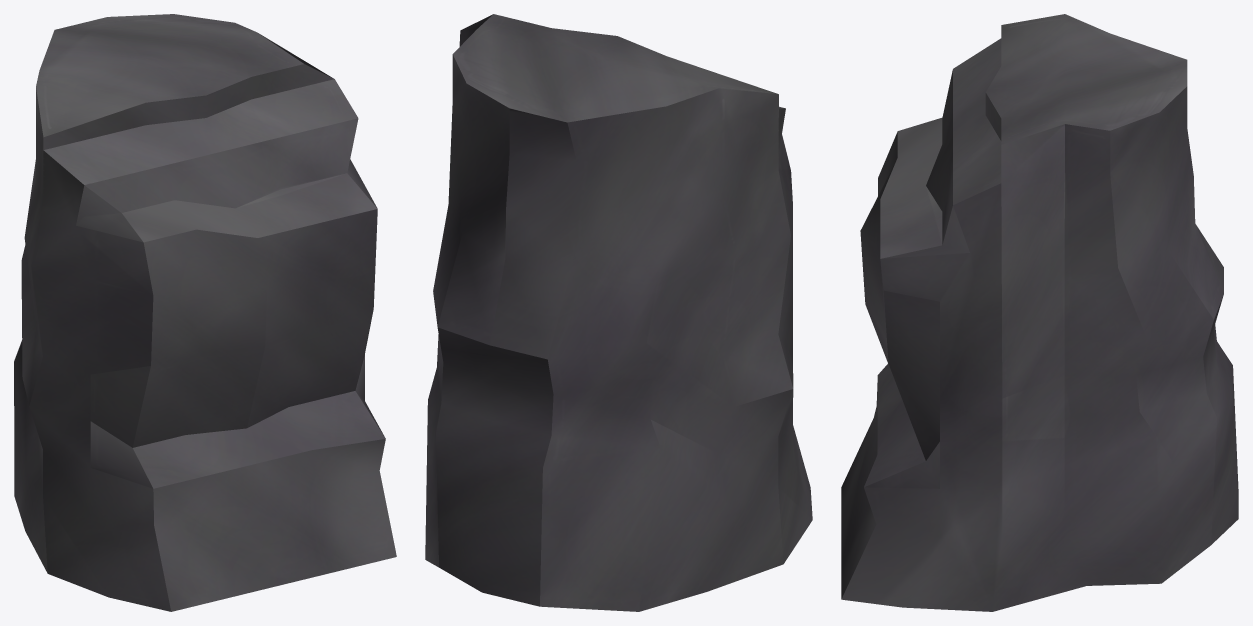
Rendered from batu3.fbx.
3 views of the same model, side by side, from view 1: azimuth 30°, elevation 25°; view 2: azimuth 150°, elevation 25°; view 3: azimuth 270°, elevation 25° (orthographic). The views are drawn at different scales.
Parts seen in each view (by area): view 1: batu4; view 2: batu4; view 3: batu4.
Part boxes in pixels (bbox=[...]): batu4: bbox=[14, 14, 396, 611]; batu4: bbox=[425, 14, 812, 611]; batu4: bbox=[841, 14, 1238, 611].
Size of the model in its own units: 298 by 412 by 319.
